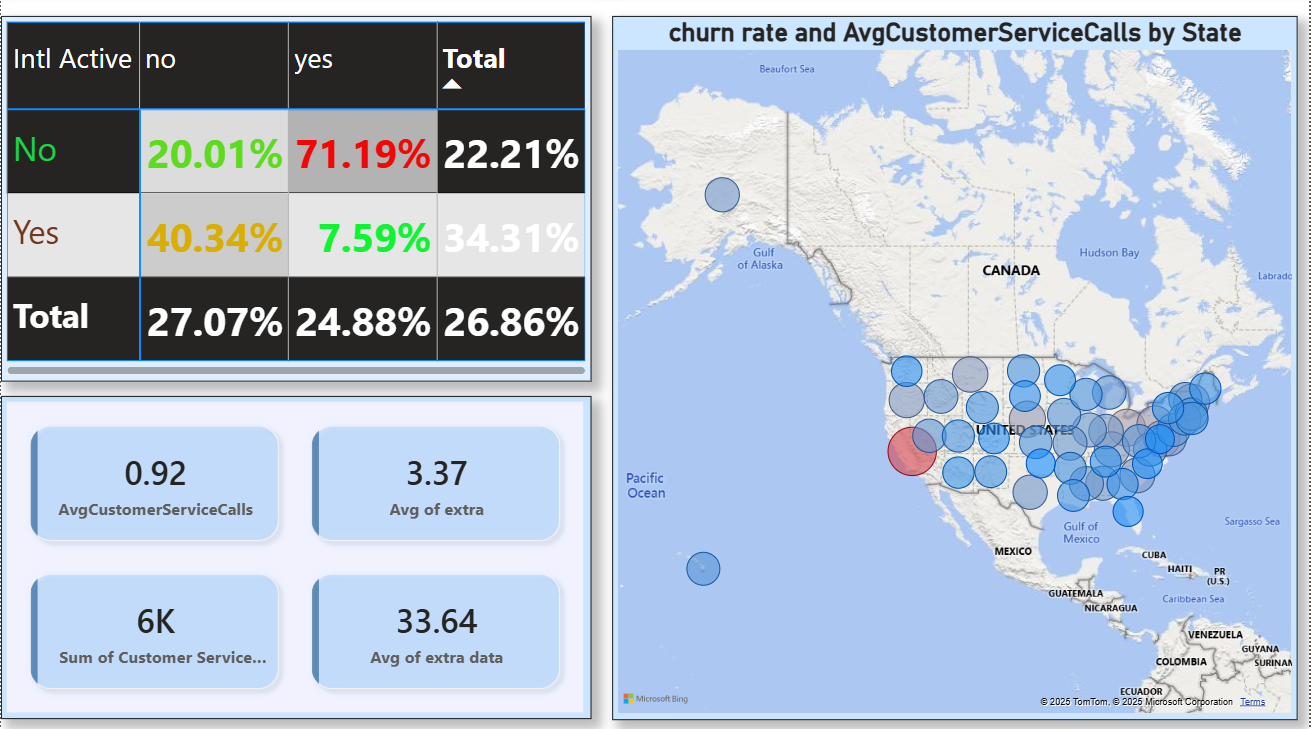

What the dashboard file says about the page in this screenshot:
{"tool":"powerbi","page":{"name":"international plan","canvas":[1280,720],"ordinal":3},"visuals":[{"type":"cardVisual","fields":{"Data":["Databel - Data.AvgCustomerServiceCalls","Sum(Databel - Data.Customer Service Calls)","Databel - Data.Avg of extra","Databel - Data.Avg of extra data"]},"box":[0,391.2,577.5,316.2],"z":0},{"type":"map","fields":{"Category":["Databel - Data.State"],"Size":["Databel - Data.churn rate"]},"box":[598,19.6,670.1,688.5],"z":1000},{"type":"pivotTable","fields":{"Rows":["Databel - Data.Intl Active"],"Values":["Databel - Data.churn rate"],"Columns":["Databel - Data.Intl Plan"]},"box":[0,20,577.5,357.5],"z":2000}]}

Visuals, with their boxes in screenshot pixels (x1, y1, x2, y2), scaled from the page's 1280x720 canvas onto the 1312x729 screenshot:
cardVisual - Databel - Data.AvgCustomerServiceCalls x Sum(Databel - Data.Customer Service Calls): [left=0, top=396, right=592, bottom=716]
map - Databel - Data.State x Databel - Data.churn rate: [left=613, top=20, right=1300, bottom=717]
pivotTable - Databel - Data.Intl Active x Databel - Data.churn rate: [left=0, top=20, right=592, bottom=382]
